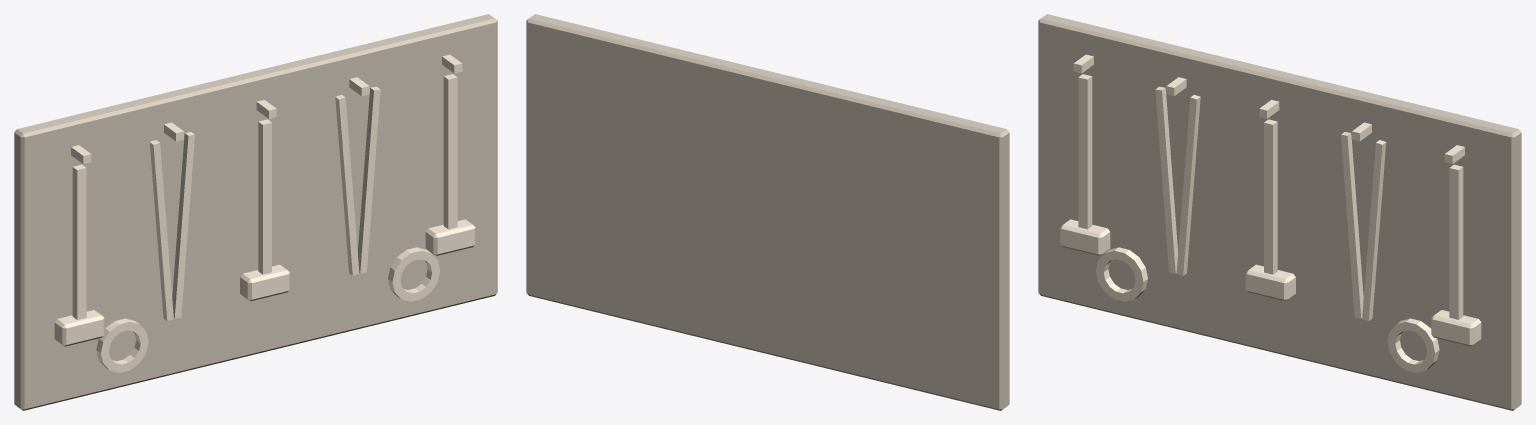
The model's file is SM_VK_Prop_ToolWall.fbx.
3 views of the same model, side by side, from view 1: azimuth 30°, elevation 25°; view 2: azimuth 150°, elevation 25°; view 3: azimuth 330°, elevation 25° (orthographic).
Visible parts, largest first — view 1: SM_VK_Prop_ToolWall.001; view 2: SM_VK_Prop_ToolWall.001; view 3: SM_VK_Prop_ToolWall.001.
Boxes of the visible parts, box(x1,y1,x2,y2) form: SM_VK_Prop_ToolWall.001: box(14, 14, 497, 410); SM_VK_Prop_ToolWall.001: box(526, 14, 1009, 410); SM_VK_Prop_ToolWall.001: box(1038, 14, 1521, 410).
Bounding box in the file's own units: 1.8 × 1 × 0.14.
